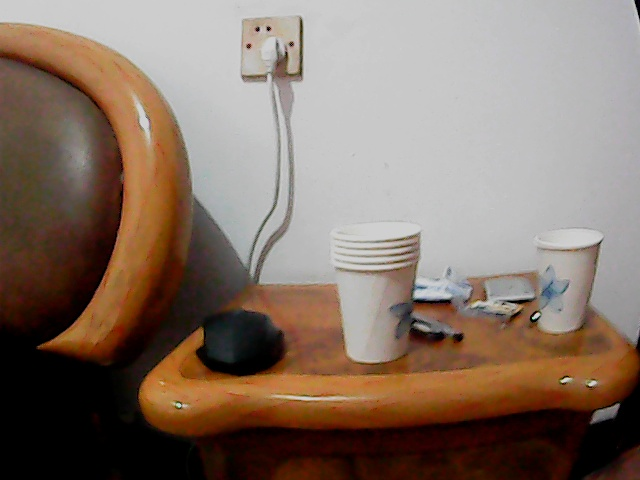cup: (329, 225, 421, 361)
mouse: (193, 306, 285, 374)
